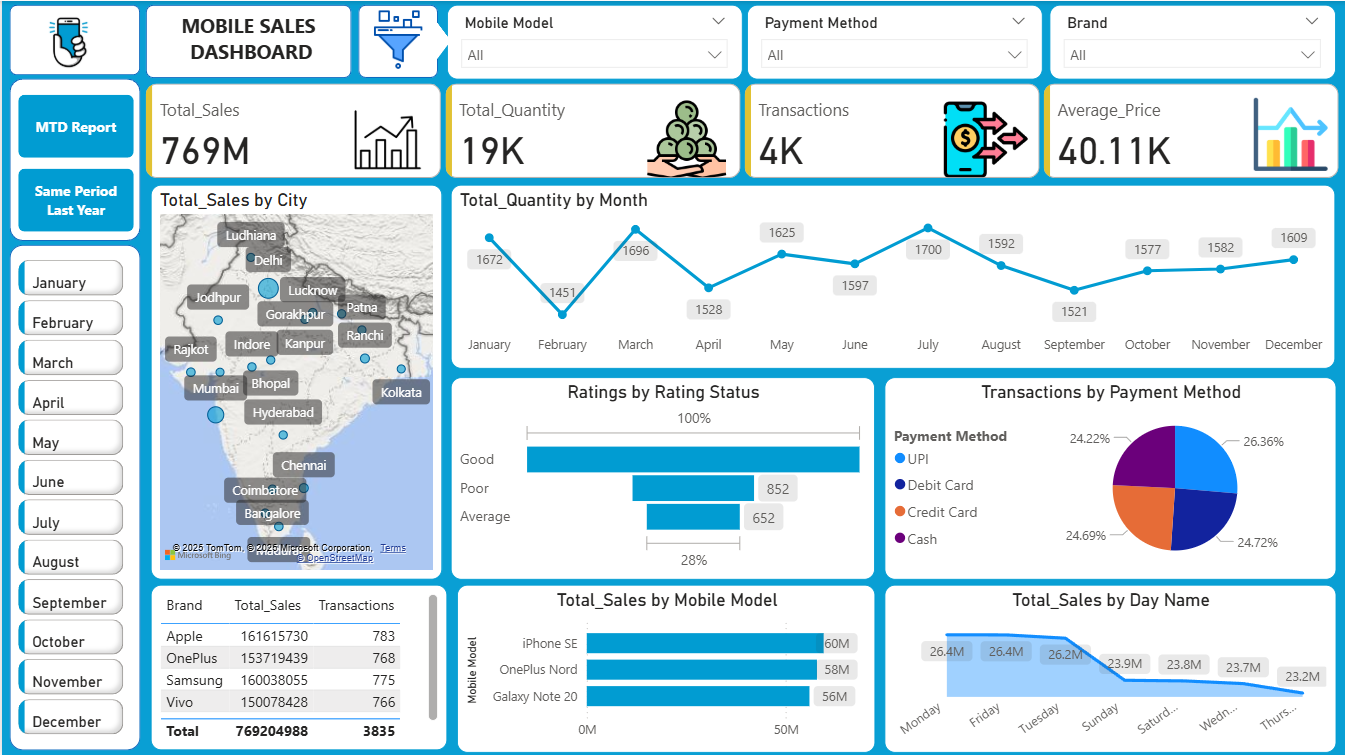

The page's visual inventory and layout, read from the dashboard file:
{"tool":"powerbi","page":{"name":"Dashboard","canvas":[1280,720],"ordinal":0},"visuals":[{"type":"shape","box":[7.5,3.8,125,67.5],"z":0},{"type":"image","box":[23.8,3.8,78.8,71.2],"z":1000},{"type":"shape","box":[7.5,73.8,125,155],"z":2000},{"type":"shape","box":[7.5,232.5,125,481.2],"z":3000},{"type":"advancedSlicerVisual","fields":{"Values":["Custom_Calendar.Date.Variation.Date Hierarchy.Month"]},"box":[11.2,241.2,110,472.5],"z":4000},{"type":"cardVisual","fields":{"Data":["Sales_Data.Total_Sales","Sales_Data.Total_Quantity","Sales_Data.Transactions","Sales_Data.Average_Price"]},"box":[132.5,73.8,1147.5,100],"z":5000},{"type":"slicer","fields":{"Values":["Sales_Data.Mobile Model"]},"box":[423.8,3.8,281.2,71.2],"z":6000},{"type":"slicer","fields":{"Values":["Sales_Data.Payment Method"]},"box":[710,3.8,281.2,71.2],"z":7000},{"type":"slicer","fields":{"Values":["Sales_Data.Brand"]},"box":[997.5,3.8,272.5,71.2],"z":8000},{"type":"shape","box":[338.8,3.8,76.2,70],"z":9000},{"type":"image","box":[337.5,3.8,81.2,66.2],"z":10000},{"type":"shape","box":[397.5,17.5,30,40],"z":11000},{"type":"shape","box":[137.5,3.8,196.2,70],"z":12000},{"type":"textbox","box":[156.2,6.2,162.5,63.8],"z":13000},{"type":"map","fields":{"Category":["Sales_Data.City"],"Size":["Sales_Data.Total_Sales"]},"box":[141.2,175,277.5,376.2],"z":14000},{"type":"lineChart","fields":{"Y":["Sales_Data.Total_Quantity"],"Category":["Custom_Calendar.Date.Variation.Date Hierarchy.Month"]},"box":[427.5,175,842.5,175],"z":15000},{"type":"funnel","title":"Ratings by Rating Status","fields":{"Y":["Sum(Sales_Data.Customer Ratings)"],"Category":["Sales_Data.Rating Status"]},"box":[427.5,358.8,403.8,192.5],"z":16000},{"type":"pieChart","fields":{"Y":["Sales_Data.Transactions"],"Category":["Sales_Data.Payment Method"]},"box":[840,358.8,430,192.5],"z":17000},{"type":"clusteredBarChart","fields":{"Y":["Sales_Data.Total_Sales"],"Category":["Sales_Data.Mobile Model"]},"box":[433.8,556.2,398.8,160],"z":18000},{"type":"areaChart","fields":{"Y":["Sales_Data.Total_Sales"],"Category":["Custom_Calendar.Day Name"]},"box":[840,556.2,430,160],"z":19000},{"type":"tableEx","fields":{"Values":["Sales_Data.Brand","Sales_Data.Total_Sales","Sales_Data.Transactions"]},"box":[141.2,556.2,282.5,157.5],"z":20000},{"type":"pageNavigator","box":[15,88.8,110,130],"z":21000}]}

Visuals, with their boxes in screenshot pixels (x1, y1, x2, y2), scaled from the page's 1280x720 canvas onto the 1345x755 screenshot:
shape: bbox(8, 4, 139, 75)
image: bbox(25, 4, 108, 79)
shape: bbox(8, 77, 139, 240)
shape: bbox(8, 244, 139, 748)
advancedSlicerVisual - Custom_Calendar.Date.Variation.Date Hierarchy.Month: bbox(12, 253, 127, 748)
cardVisual - Sales_Data.Total_Sales x Sales_Data.Total_Quantity: bbox(139, 77, 1344, 182)
slicer - Sales_Data.Mobile Model: bbox(445, 4, 741, 79)
slicer - Sales_Data.Payment Method: bbox(746, 4, 1042, 79)
slicer - Sales_Data.Brand: bbox(1048, 4, 1334, 79)
shape: bbox(356, 4, 436, 77)
image: bbox(355, 4, 440, 73)
shape: bbox(418, 18, 449, 60)
shape: bbox(144, 4, 351, 77)
textbox: bbox(164, 7, 335, 73)
map - Sales_Data.City x Sales_Data.Total_Sales: bbox(148, 184, 440, 578)
lineChart - Sales_Data.Total_Quantity x Custom_Calendar.Date.Variation.Date Hierarchy.Month: bbox(449, 184, 1334, 367)
"Ratings by Rating Status" funnel: bbox(449, 376, 874, 578)
pieChart - Sales_Data.Transactions x Sales_Data.Payment Method: bbox(883, 376, 1334, 578)
clusteredBarChart - Sales_Data.Total_Sales x Sales_Data.Mobile Model: bbox(456, 583, 875, 751)
areaChart - Sales_Data.Total_Sales x Custom_Calendar.Day Name: bbox(883, 583, 1334, 751)
tableEx - Sales_Data.Brand x Sales_Data.Total_Sales: bbox(148, 583, 445, 748)
pageNavigator: bbox(16, 93, 131, 229)
